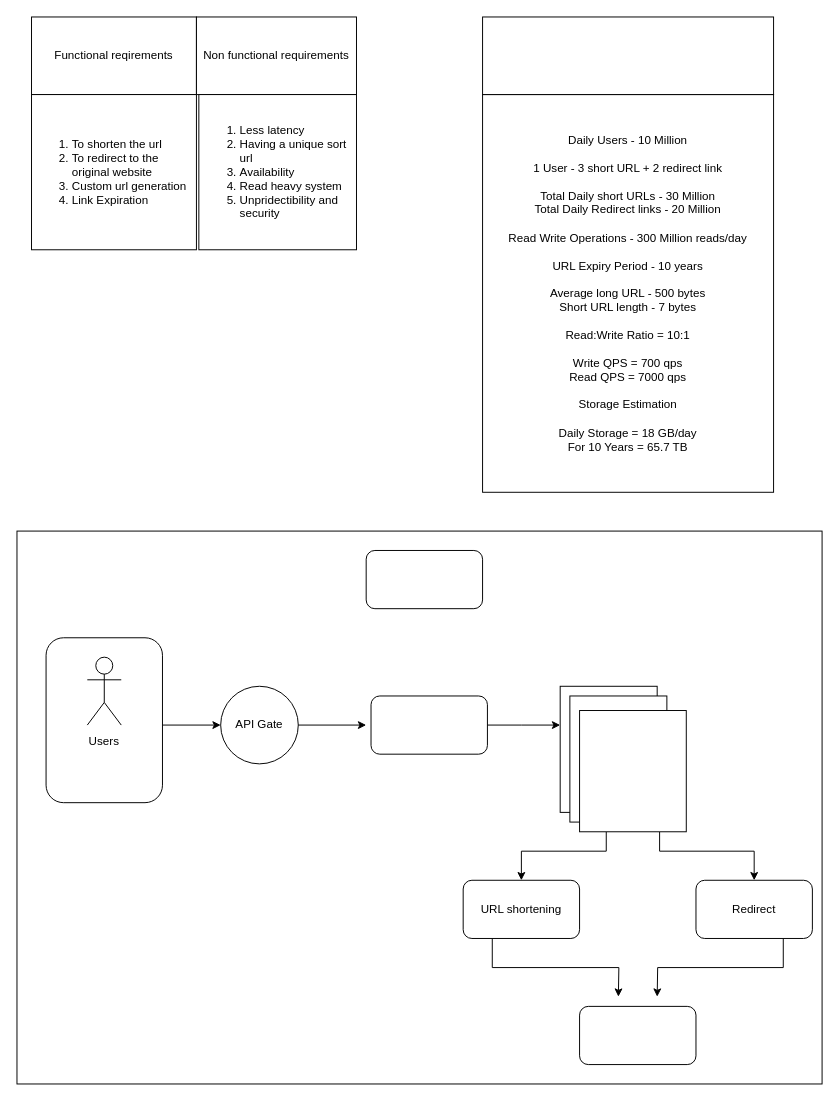
This 839x1101 diagram has some shape labels left out. The centre of each missing label's shape, as x and y in pixels:
Architecture: (424,579)
Database: (637,1035)
Estimation: (628,55)
Load Balancer: (428,724)
Server instances: (632,771)
